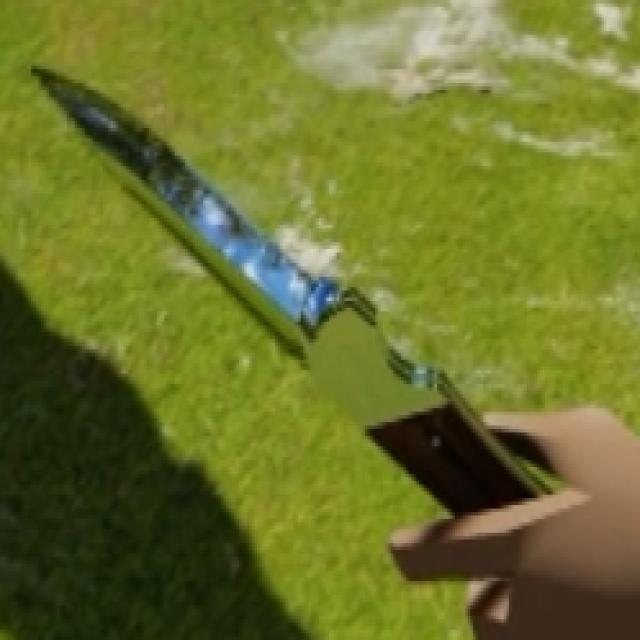knife: (20, 50, 556, 541)
